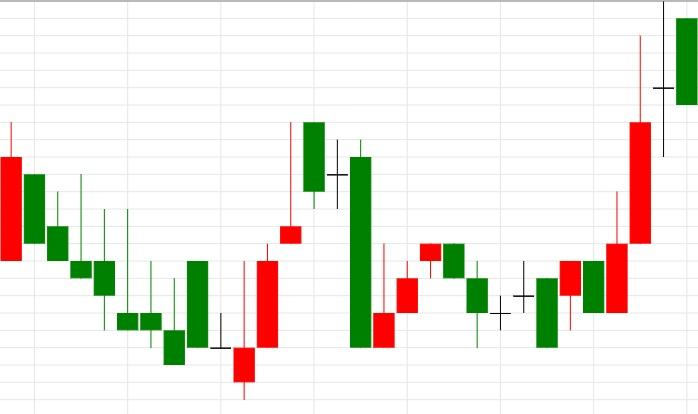bearish_engulfing_fall: (373, 244, 464, 348)
inverse_hammer_rise: (24, 175, 255, 401), (304, 122, 395, 348)
